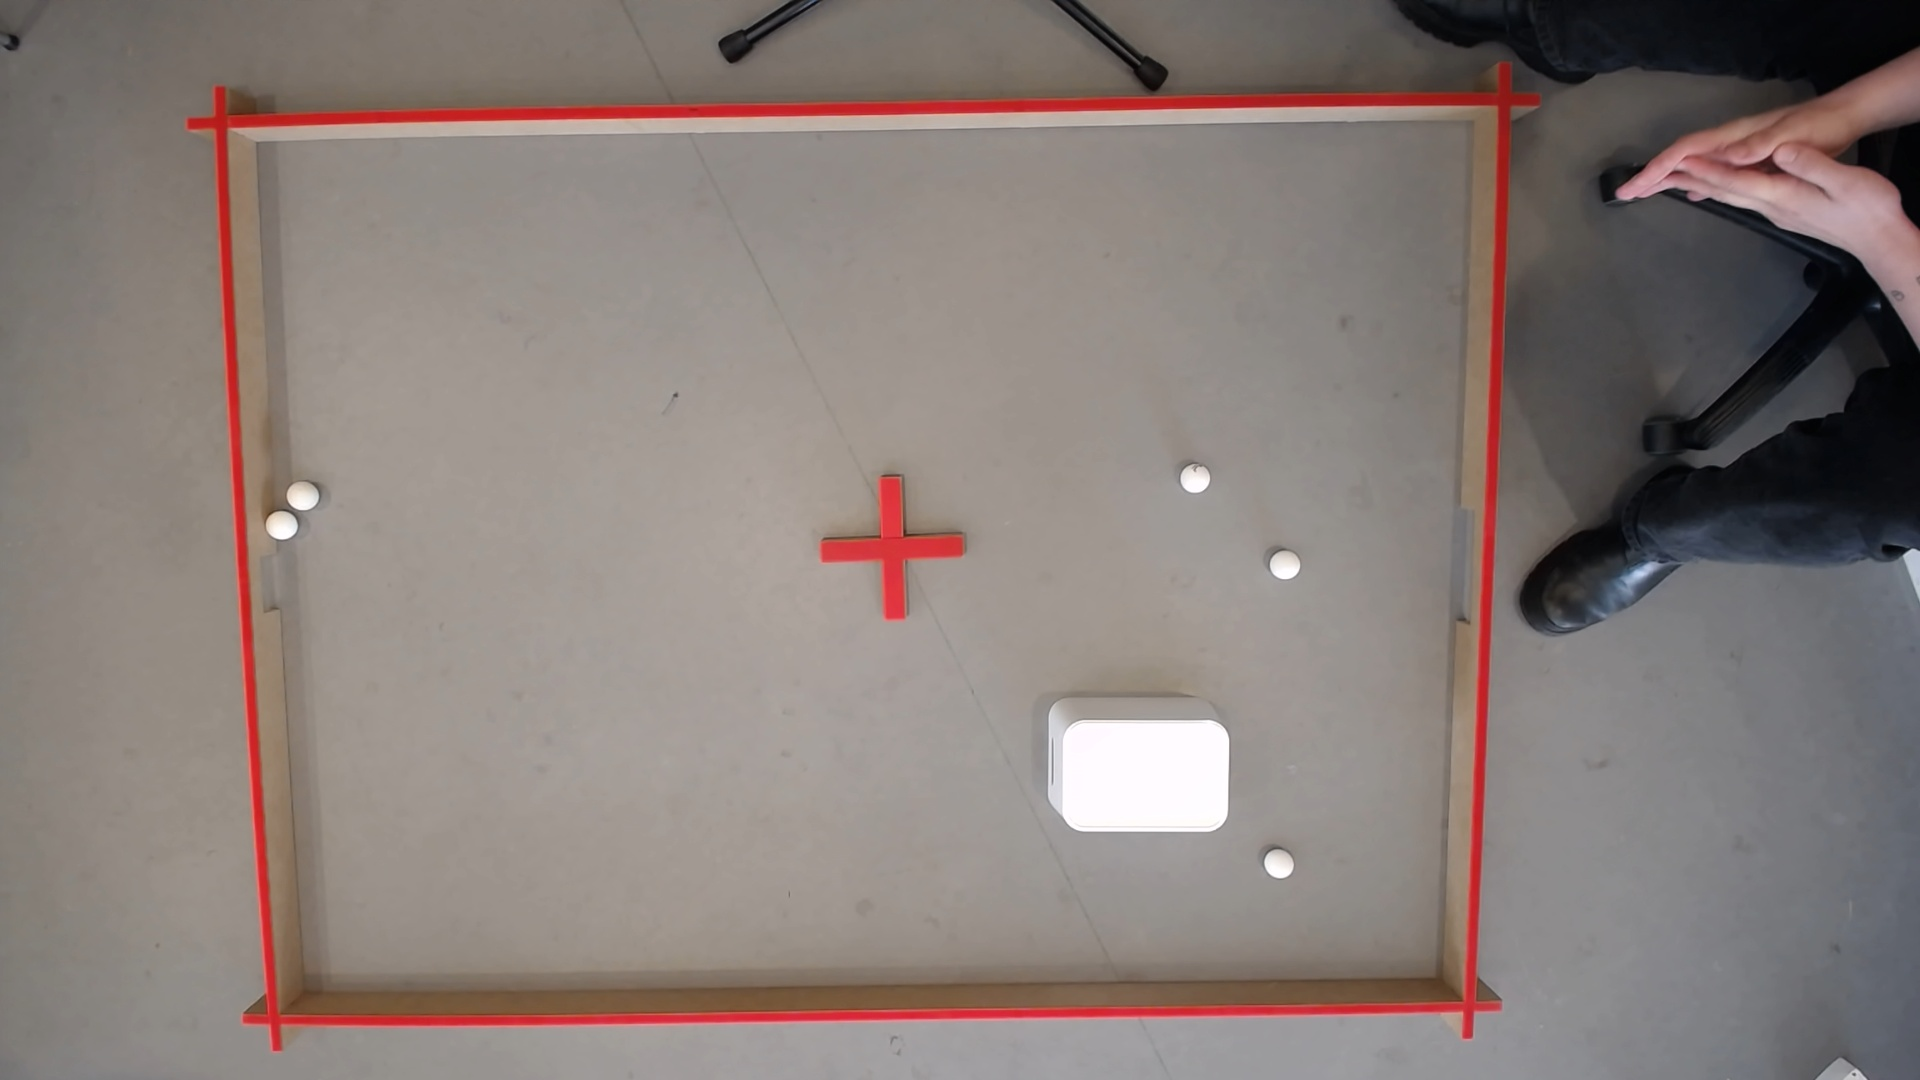balls: (1175, 462, 1213, 497), (1265, 550, 1302, 584), (1258, 851, 1294, 881), (285, 484, 319, 514), (1747, 182, 1785, 203), (268, 516, 297, 539)
car: (1724, 193, 1762, 210)
